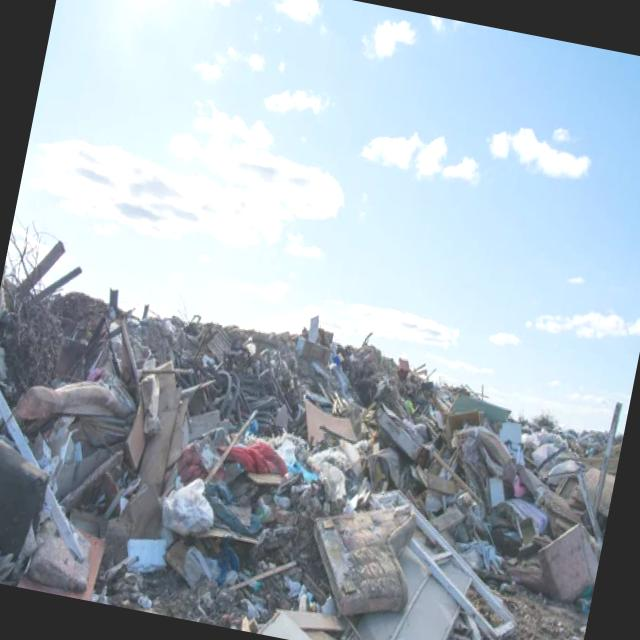garbage: (0, 268, 543, 633)
